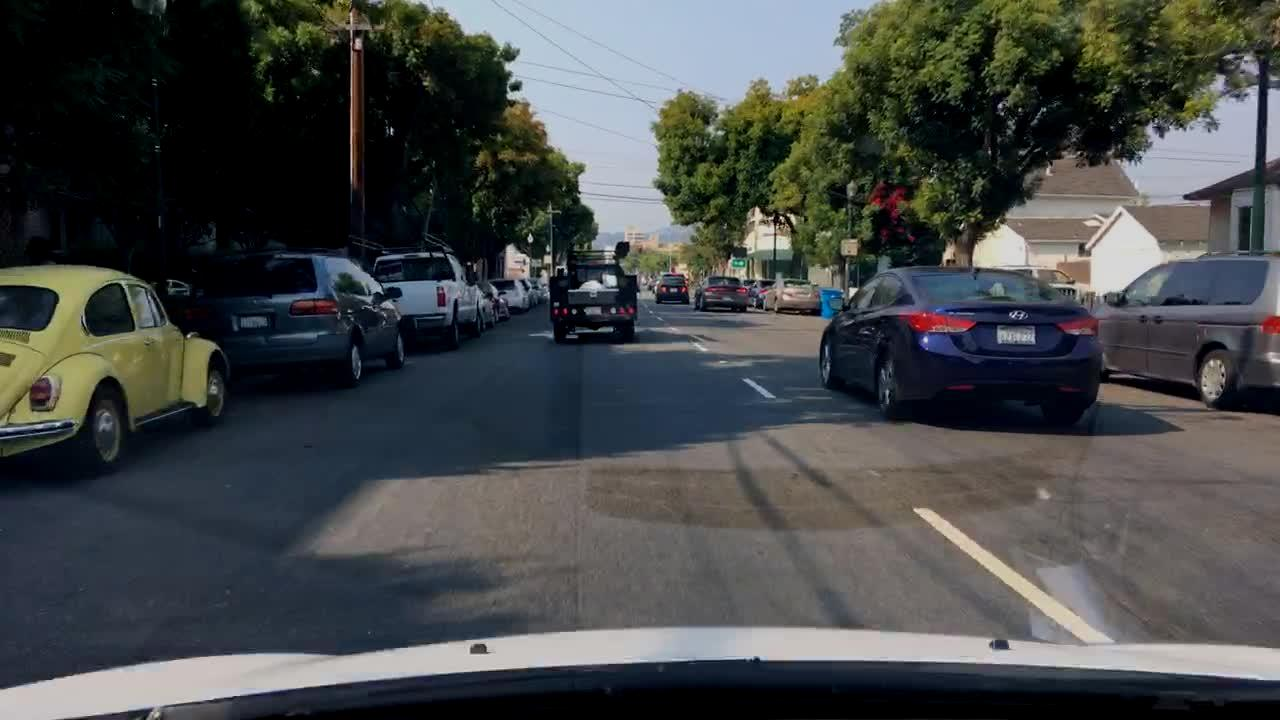Hyundai: (1000, 301, 1038, 328)
